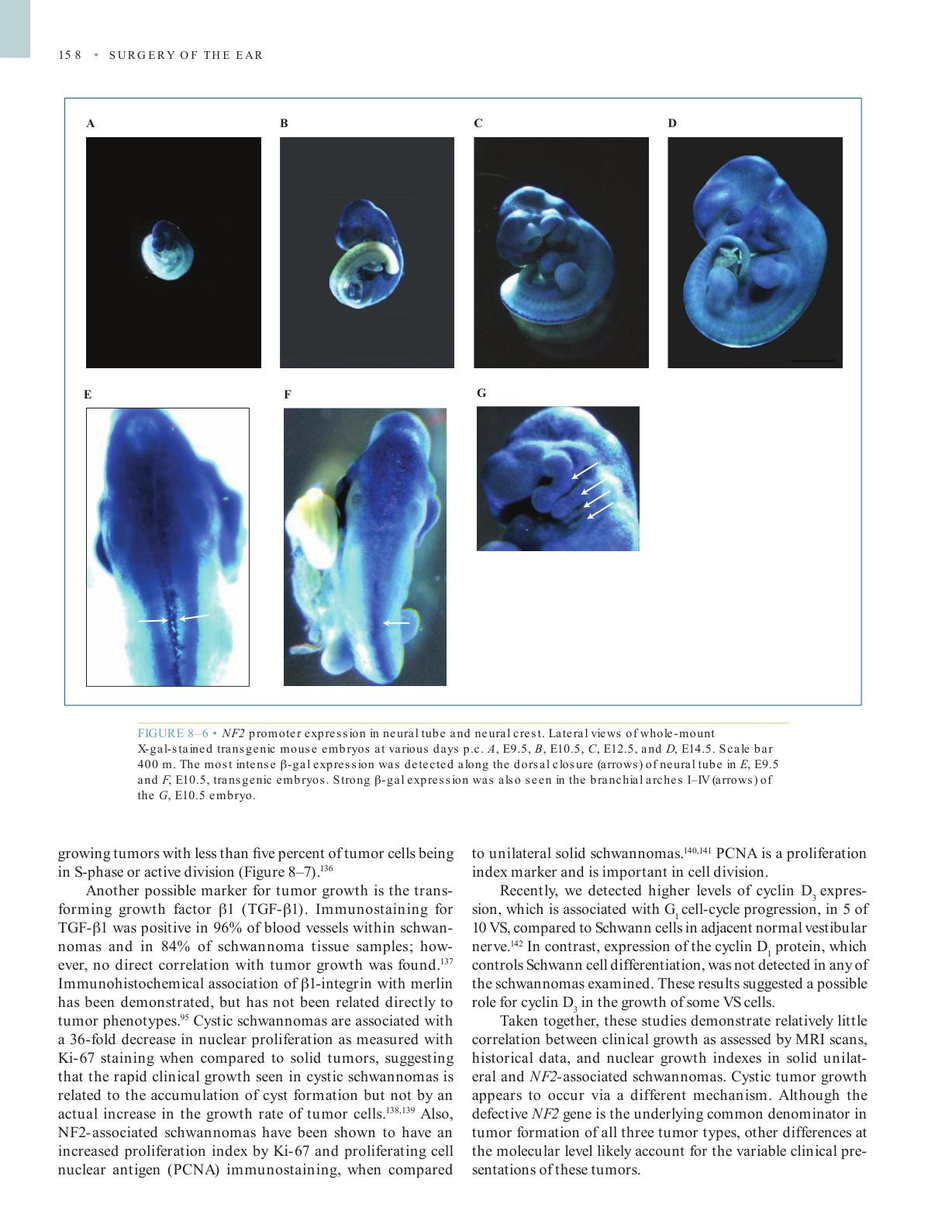caption: (136, 726, 780, 803), (277, 116, 291, 130), (665, 116, 678, 129), (475, 386, 488, 399), (473, 116, 485, 129), (82, 387, 93, 401), (282, 387, 293, 400), (85, 117, 96, 129)
header: (108, 49, 266, 60)
image: (281, 405, 451, 688), (84, 405, 252, 689), (665, 132, 846, 373), (84, 134, 264, 371), (471, 134, 651, 371), (277, 134, 457, 370), (475, 403, 641, 554)
text: (468, 843, 869, 1179), (56, 844, 455, 1180)
